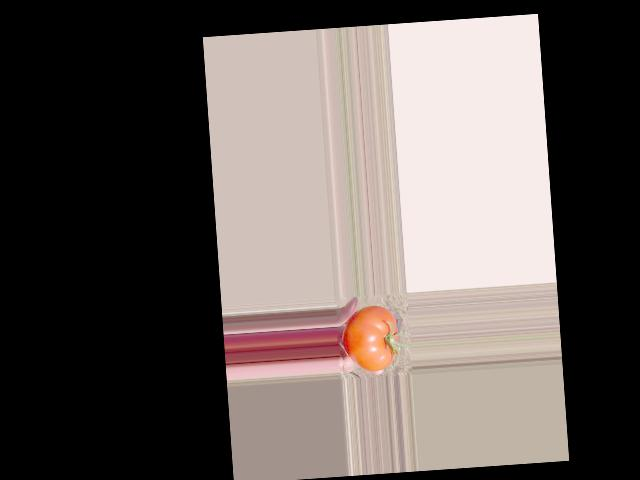tomato: (340, 304, 400, 373)
